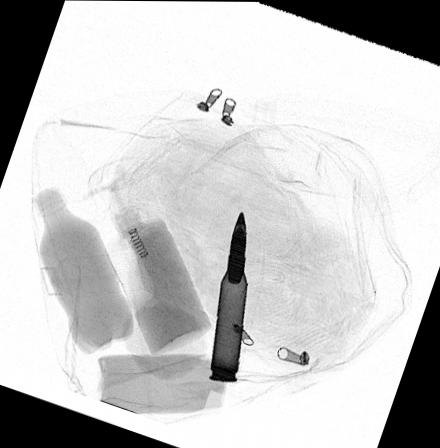Bullet: (208, 210, 248, 384)
